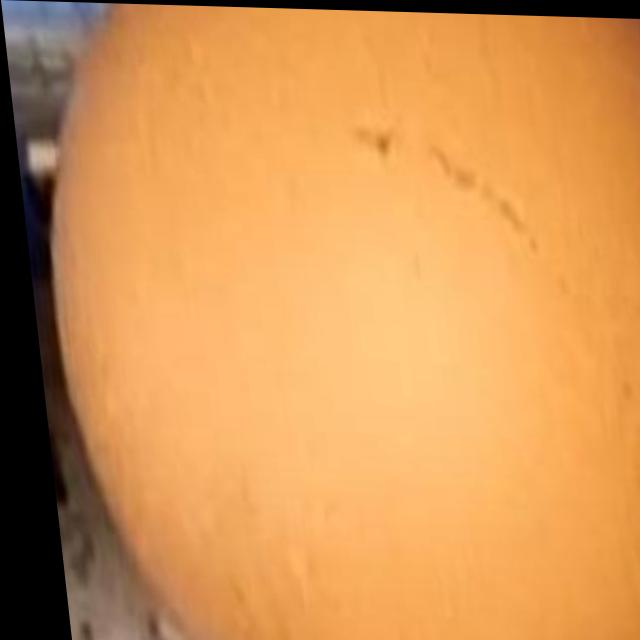fresh: (32, 1, 640, 640)
